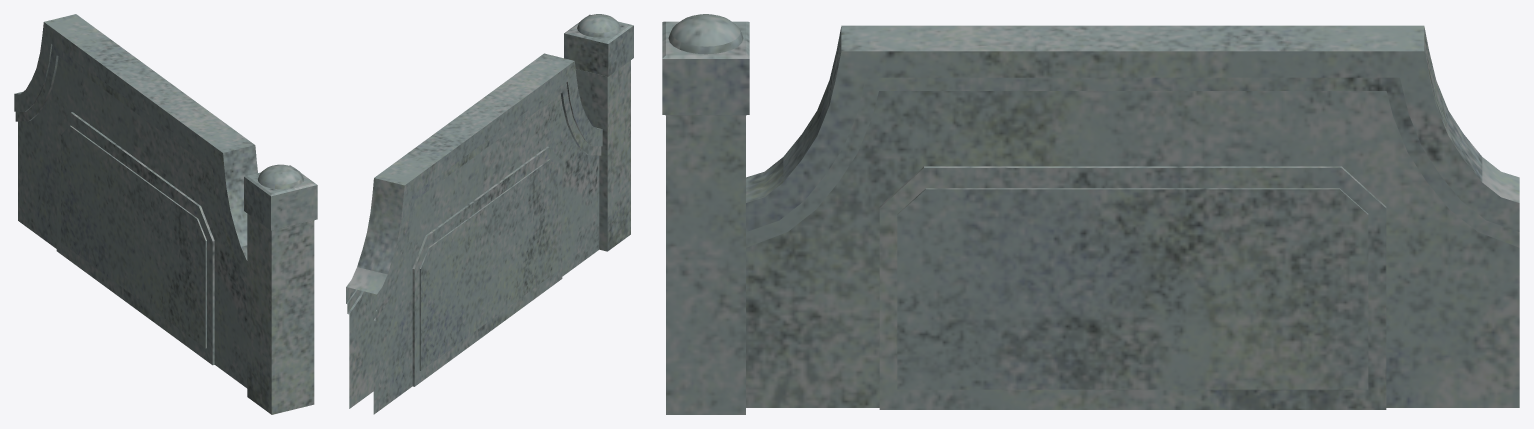
Rendered from TestProp_UVSet.FBX.
The picture shows the model from 3 angles, left to right: view 1: azimuth 30°, elevation 25°; view 2: azimuth 150°, elevation 25°; view 3: azimuth 270°, elevation 25°; orthographic projection. The views are drawn at different scales.
Parts seen in each view (by area): view 1: Object007; view 2: Object007; view 3: Object007.
Part boxes in pixels (bbox=[...]): Object007: bbox=[14, 14, 317, 414]; Object007: bbox=[346, 14, 633, 414]; Object007: bbox=[662, 14, 1519, 414].
Bounding box in the file's own units: 7.26 × 34.71 × 71.17.
1 material, 1 textured.
